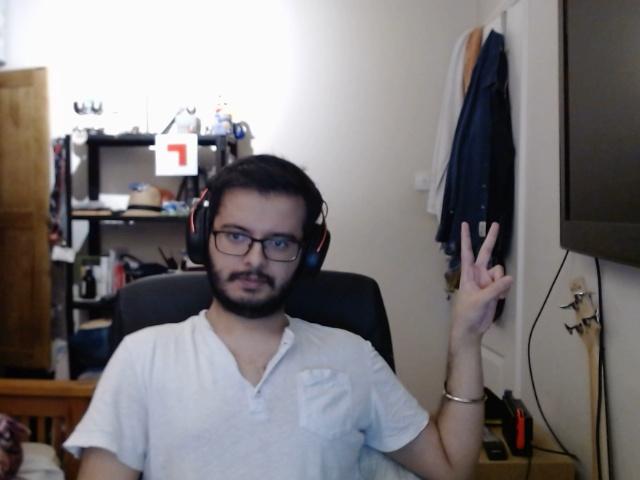Peace: (428, 216, 515, 353)
